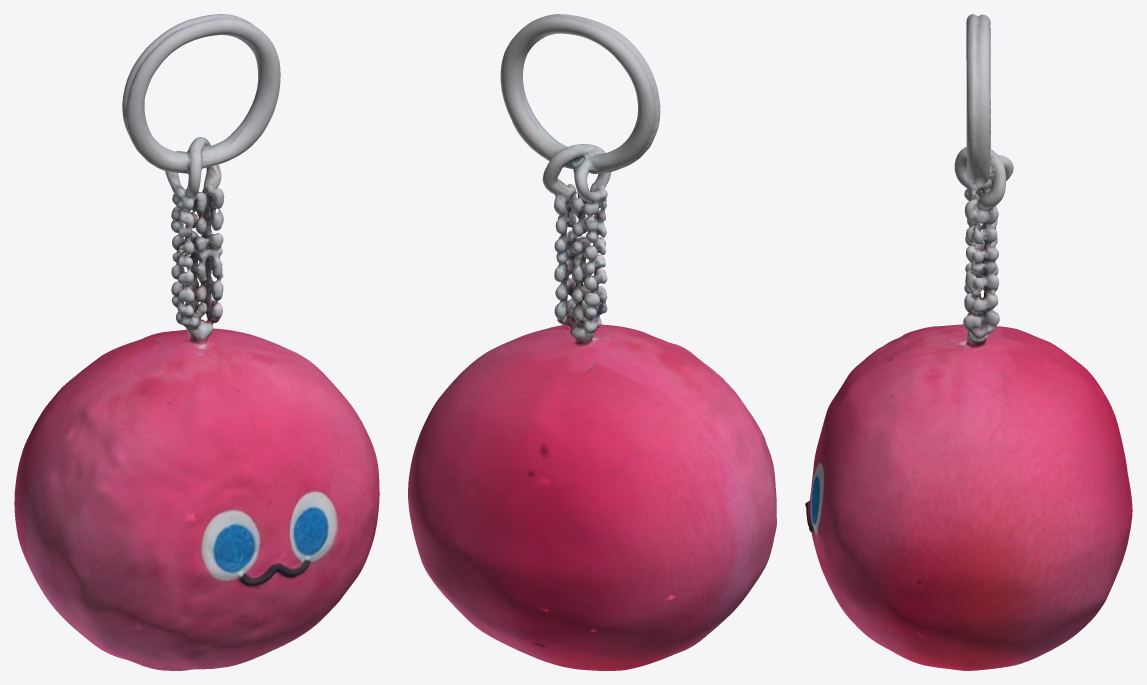
File: hanging-ball-pink.glb
3 renders of one model, left to right at view 1: azimuth 30°, elevation 25°; view 2: azimuth 150°, elevation 25°; view 3: azimuth 270°, elevation 25°, orthographic.
Size of the model in its own units: 1.07 by 2 by 0.9479.
1 material, 1 textured.
